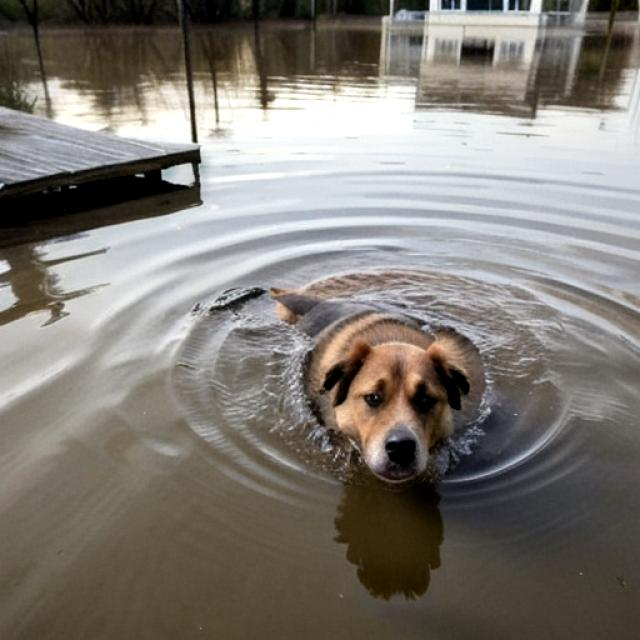dog: (247, 263, 505, 497)
